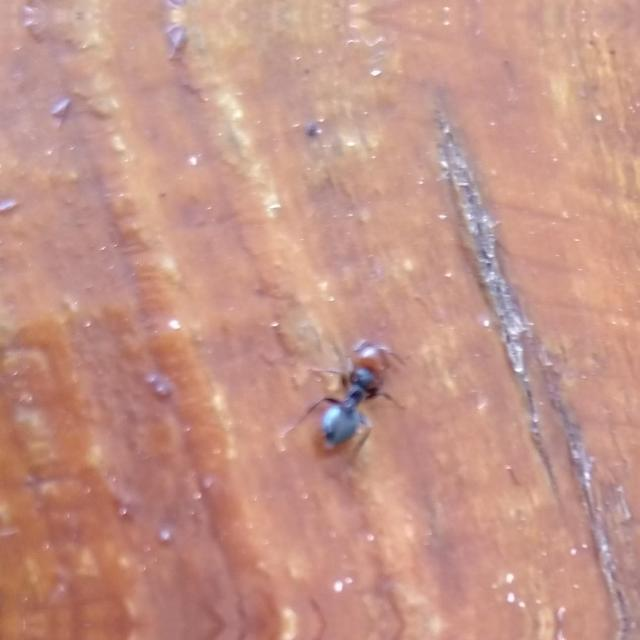Crematogaster: (306, 339, 394, 458)
